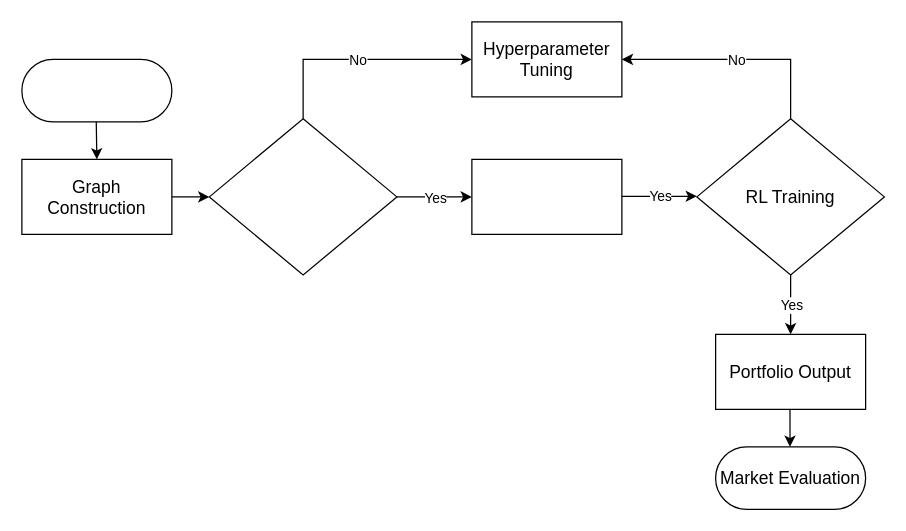
Some shapes in this 906 by 531 pixel diagram are drawn without their labels. Each missing label, with the centre of its shape:
"Data Ingestion" belongs at pixel 96 90.
"GNN Pre-training" belongs at pixel 302 196.
"RL Stage Design" belongs at pixel 546 196.
